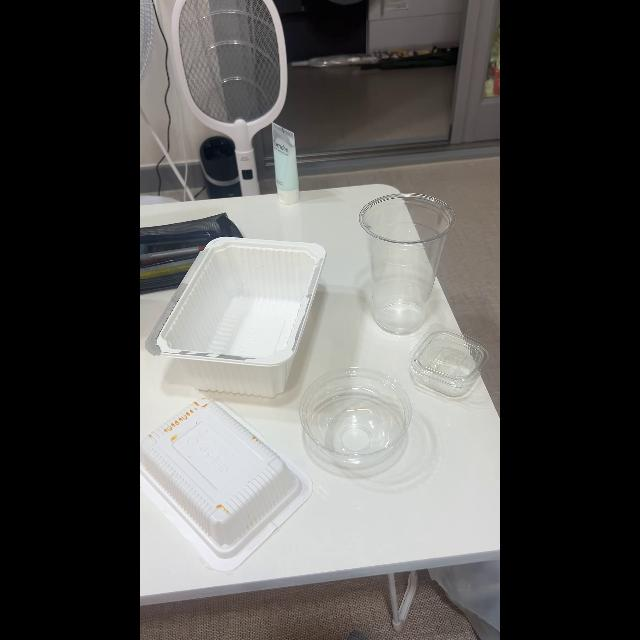clean: (168, 236, 324, 398), (364, 193, 444, 334), (302, 370, 412, 470), (412, 327, 490, 395)
dirty: (145, 396, 297, 564)
